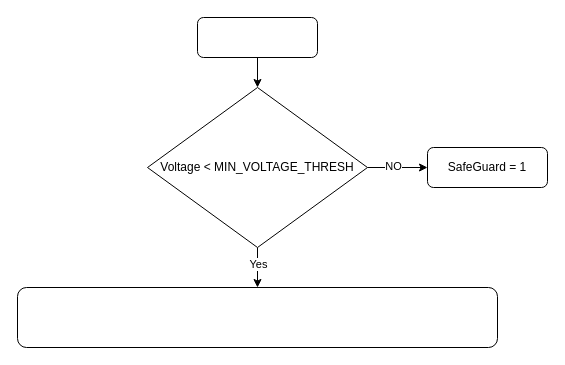
Some shapes in this 565 by 365 pixel diagram are drawn without their labels. Each missing label, with the centre of its shape:
"Measure Voltage & Current" belongs at [257,37].
"SafeGuard = (Voltage - MIN_VOLTAGE)/(MIN_VOLTAGE_THRESH-MIN_VOLTAGE)" belongs at [257,317].
